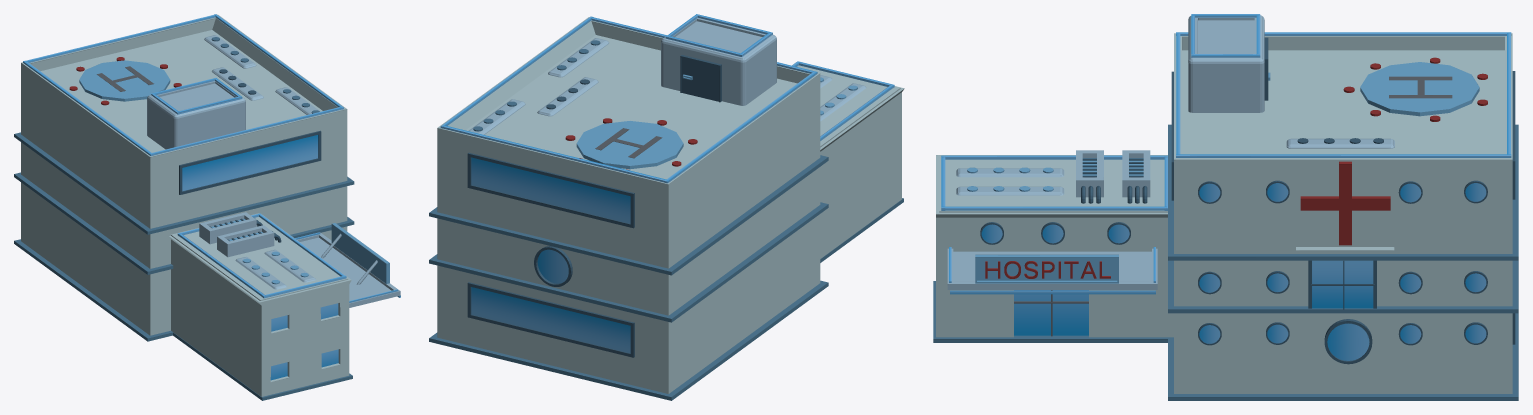
3 renders of one model, left to right at view 1: azimuth 30°, elevation 25°; view 2: azimuth 150°, elevation 25°; view 3: azimuth 270°, elevation 25°, orthographic. The views are drawn at different scales.
Parts seen in each view (by area): view 1: Node; view 2: Node; view 3: Node.
Boxes of the visible parts, x1,y1,x2,y2 form: Node: (14, 14, 400, 400); Node: (429, 14, 904, 400); Node: (933, 14, 1518, 400).
Bounding box in the file's own units: 334 × 329 × 625.
Materials: 1 (1 with a texture image).
